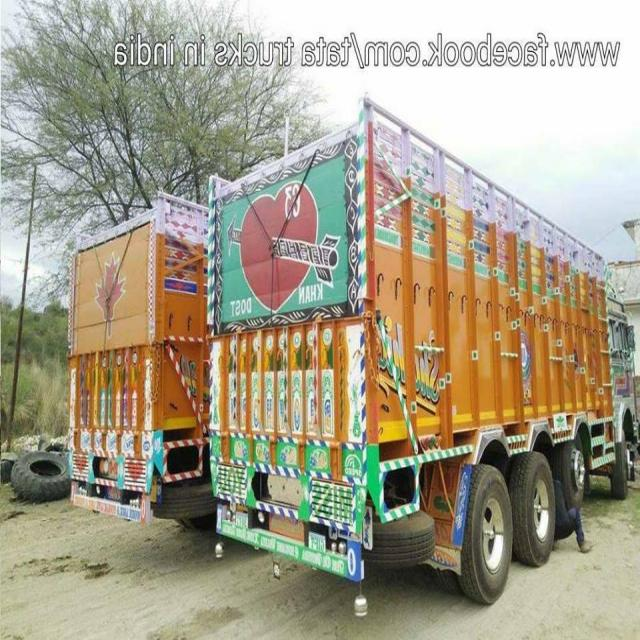truck: (208, 106, 640, 618), (63, 212, 211, 533)
